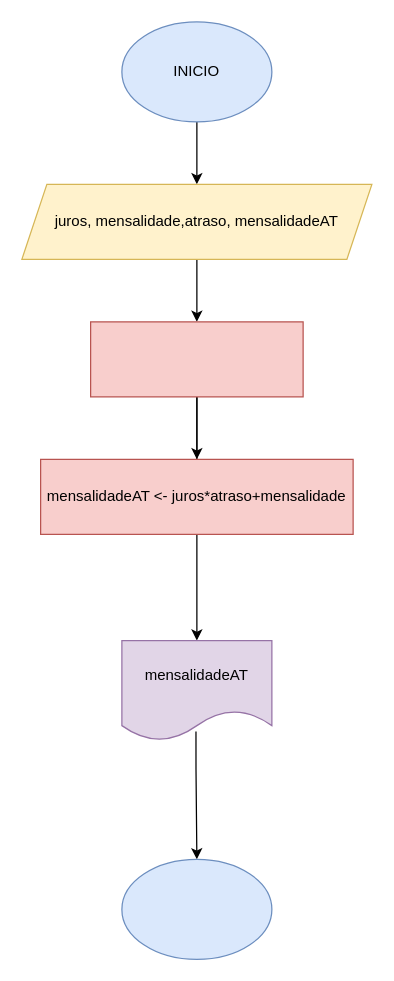
This 394x981 diagram has some shape labels left out. Here are the shapes that lost their labels. From the top down, the centre of each, then its label:
the point at 196,359: juros <- 2/100*mensalidade
the point at 196,908: FIM
